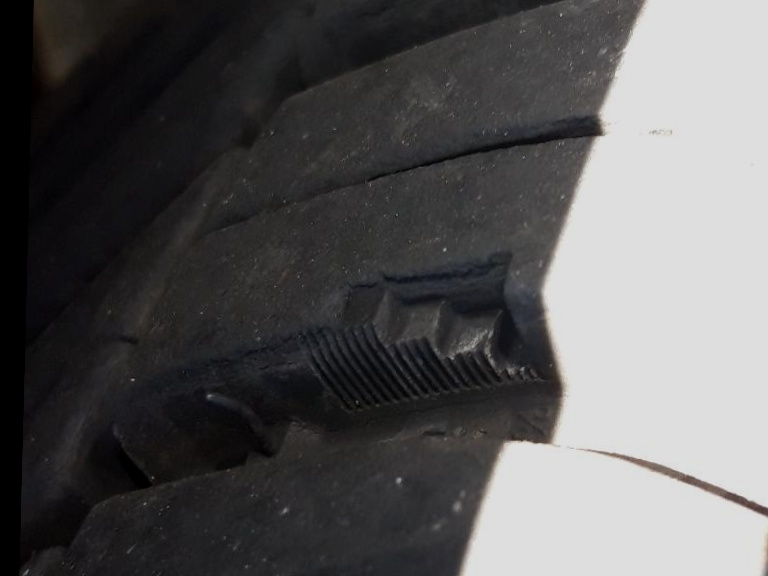temoin:80: (288, 241, 552, 425)
